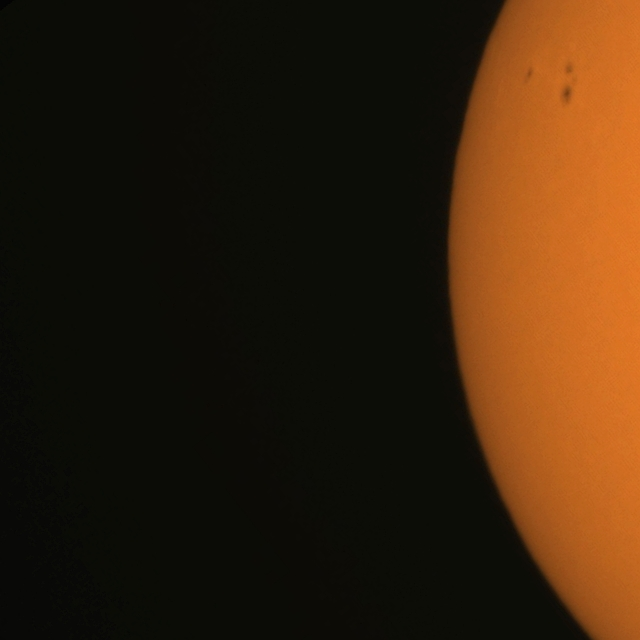sunspot: (558, 62, 577, 109), (560, 83, 574, 107), (562, 61, 575, 78), (525, 65, 535, 81)
